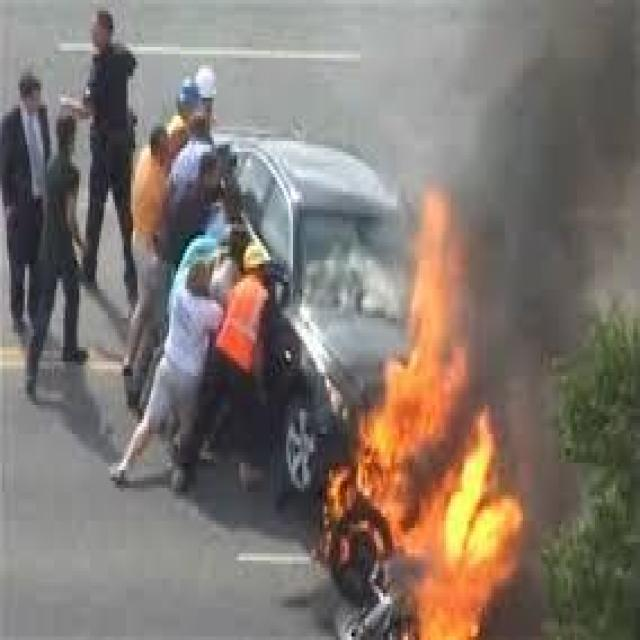fire: (309, 146, 516, 633)
smoke: (470, 0, 632, 521)
